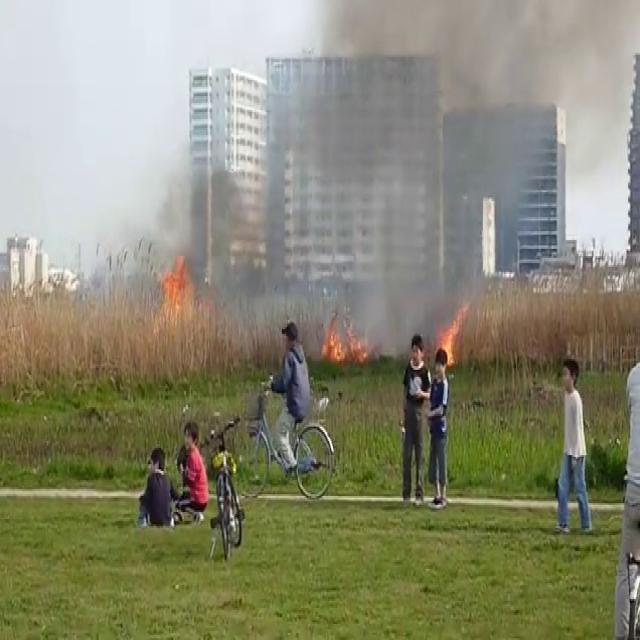Fire: (152, 245, 202, 332), (434, 298, 468, 372)
Smoke: (213, 0, 632, 324)
